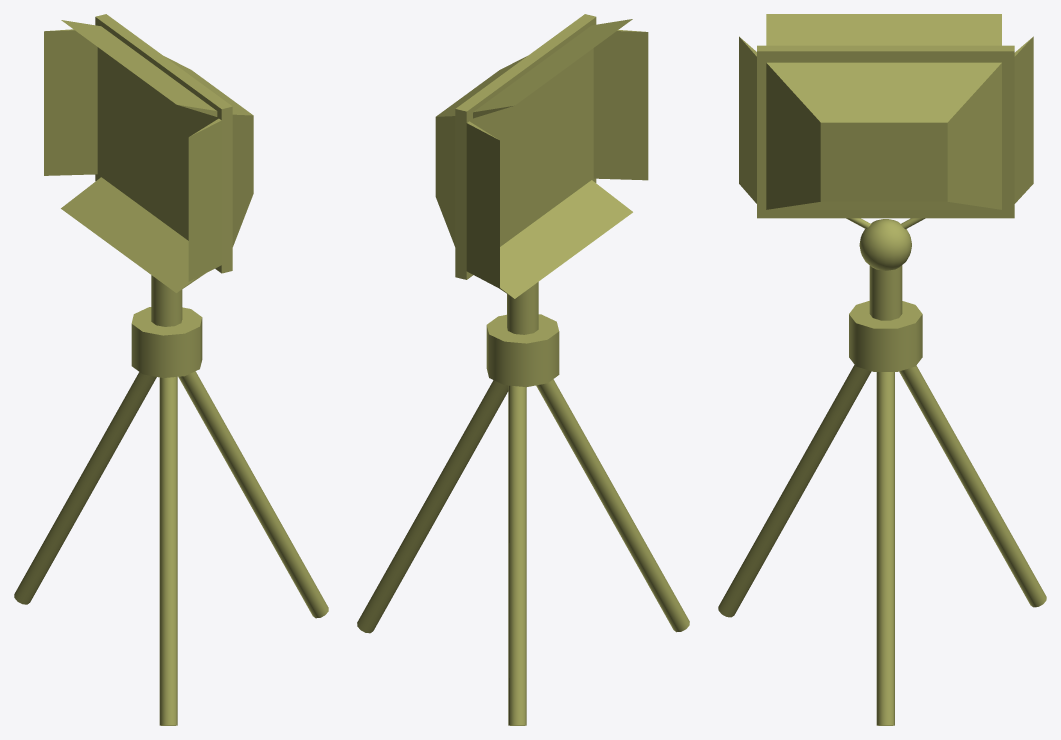
File: LightStanding.fbx
3 views of the same model, side by side, from view 1: azimuth 30°, elevation 25°; view 2: azimuth 150°, elevation 25°; view 3: azimuth 270°, elevation 25° (orthographic). The views are drawn at different scales.
Parts seen in each view (by area): view 1: LightStanding1; view 2: LightStanding1; view 3: LightStanding1.
Part boxes in pixels (<box>): LightStanding1: <box>14,14,328,725</box>; LightStanding1: <box>357,14,689,725</box>; LightStanding1: <box>718,14,1046,725</box>.
Size of the model in its own units: 220 by 519 by 252.
